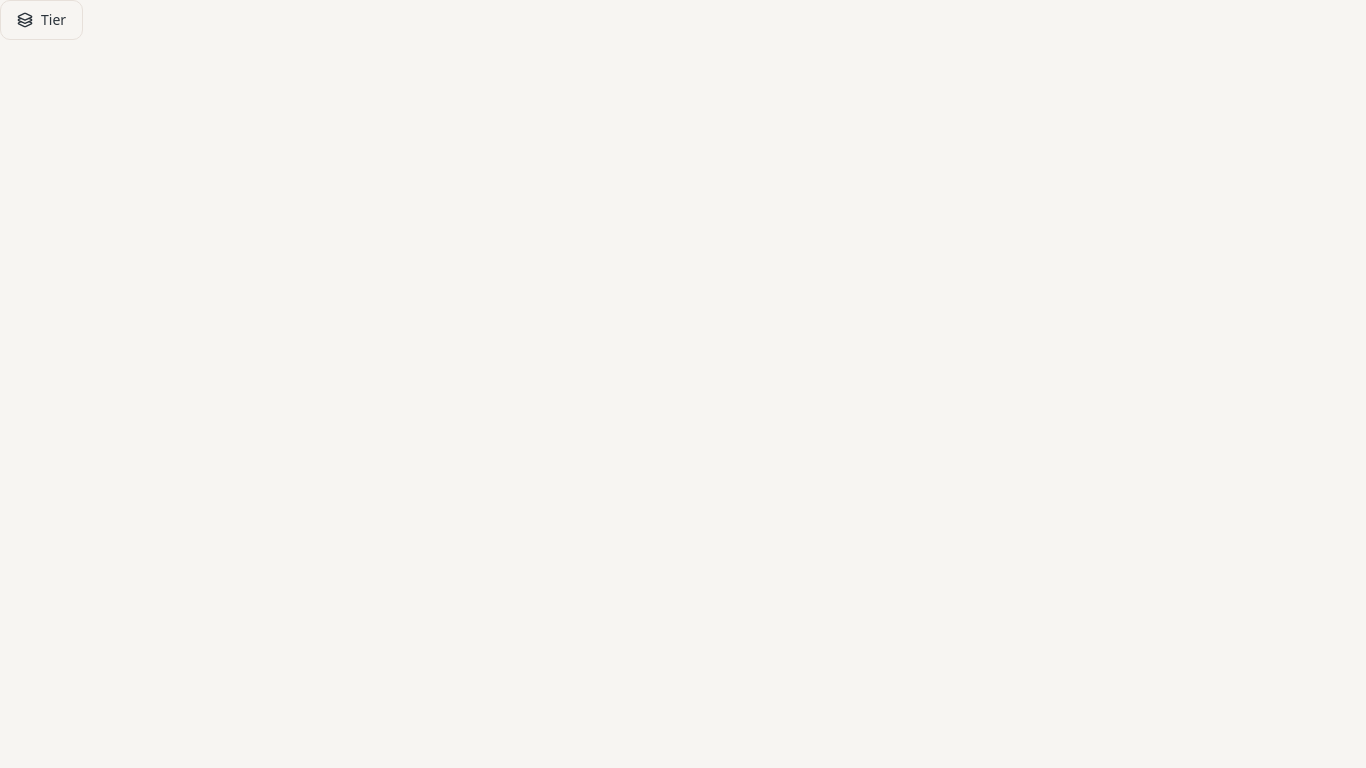
it: selects a tier inside the popup and copies that selection without navigating
Later steps or results of the test are not shown.
Click the button "Tier": (42, 20) x1=0 y1=0 x2=83 y2=40
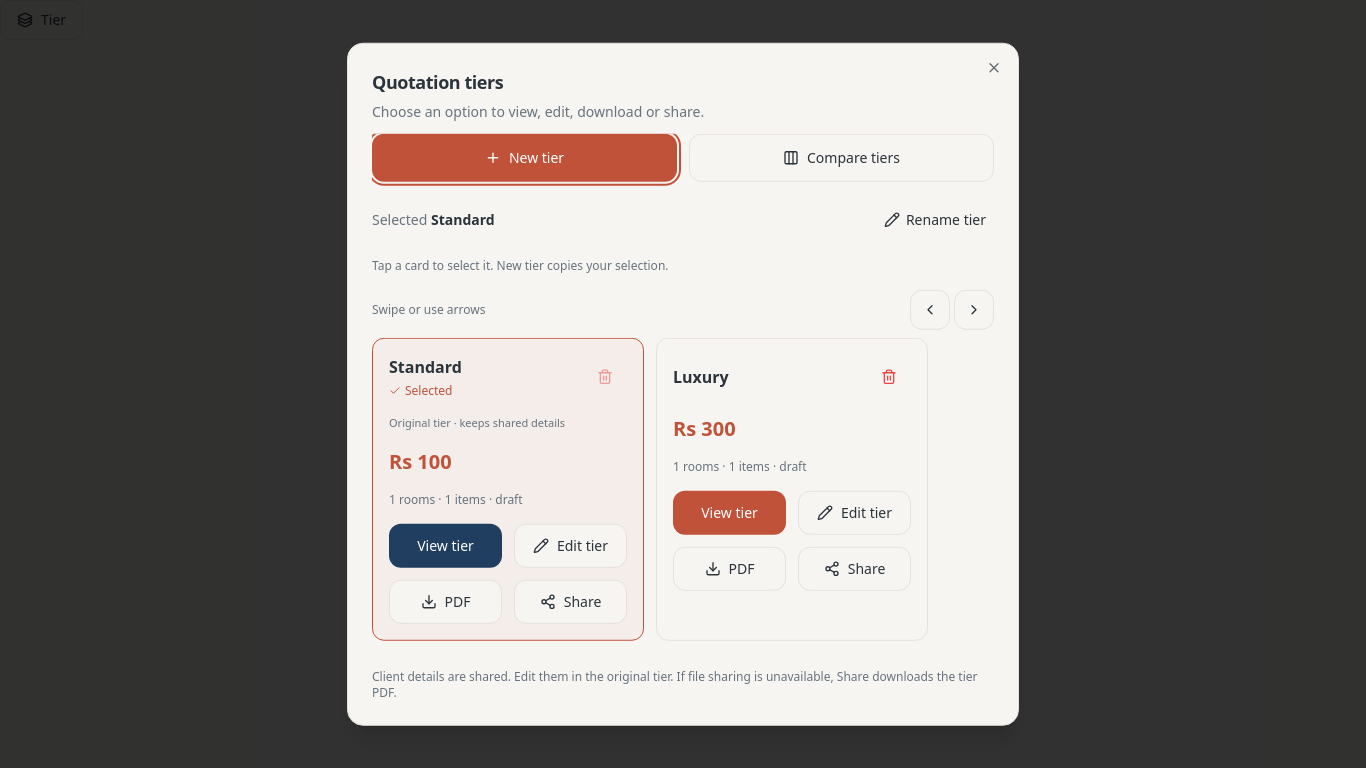
Click the button with aria-label "Select Luxury tier": (766, 377) x1=673 y1=355 x2=859 y2=399
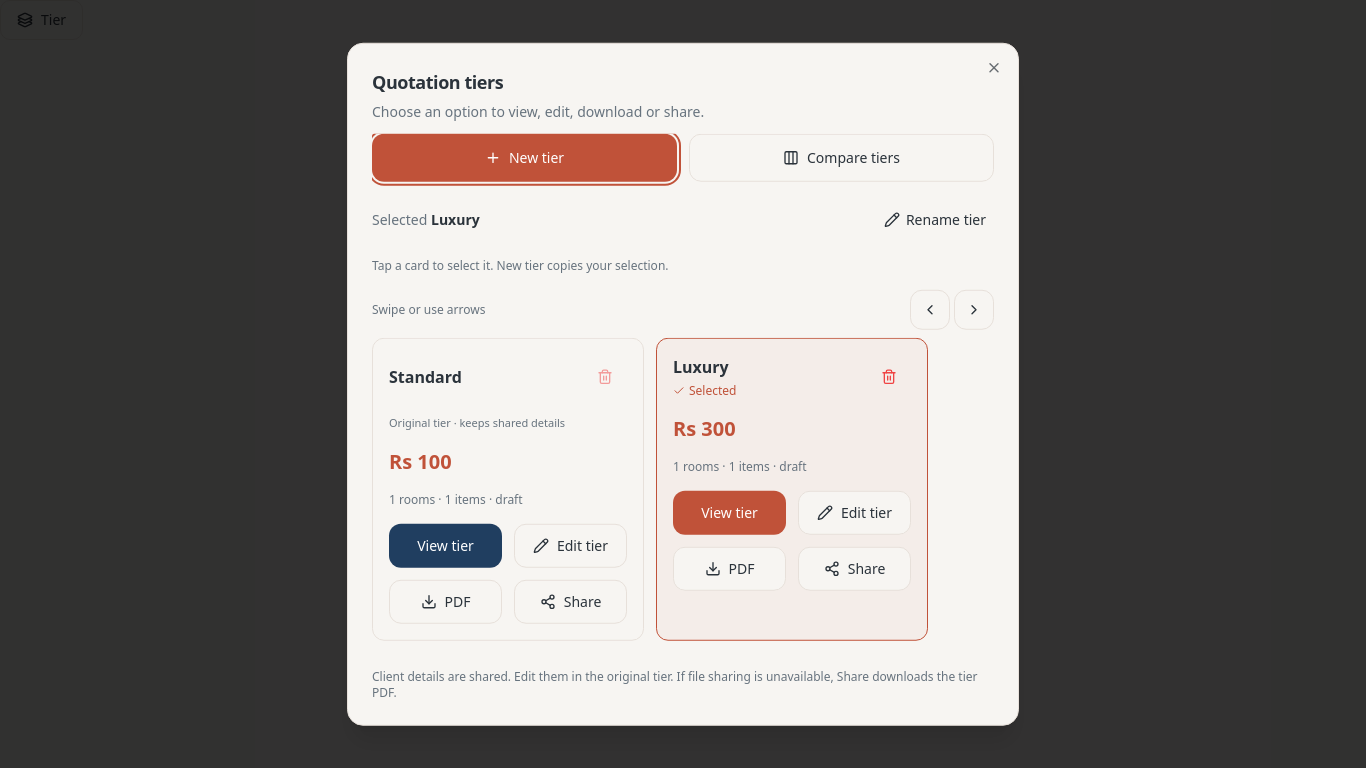
expect the button with aria-label "Select Luxury tier" is pressed: met, box x1=673 y1=355 x2=859 y2=399
